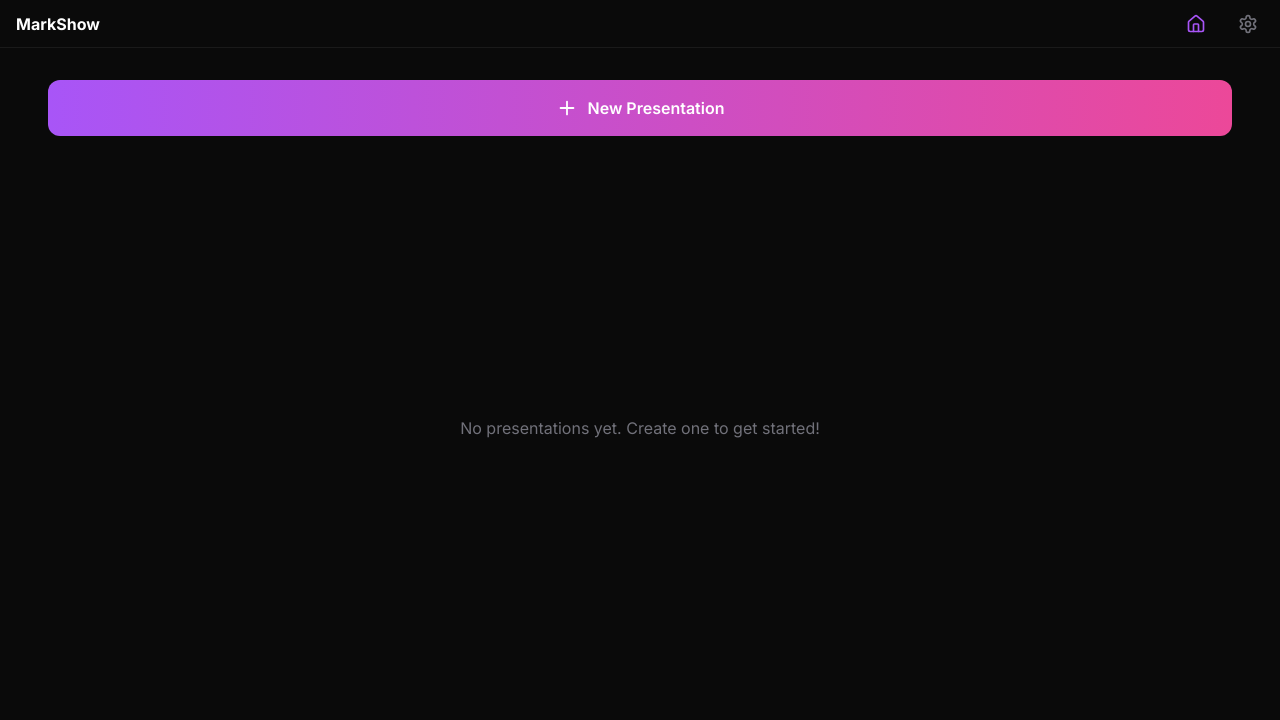
Test case: HomePage › opens create dialog on button click
This screenshot has width=1280, height=720.
Check: the text "No presentations yet. Create one to get started!" is shown, box [460, 416, 820, 440]
Click the button with test id "new-presentation-btn" at (640, 108), box [48, 80, 1232, 136]
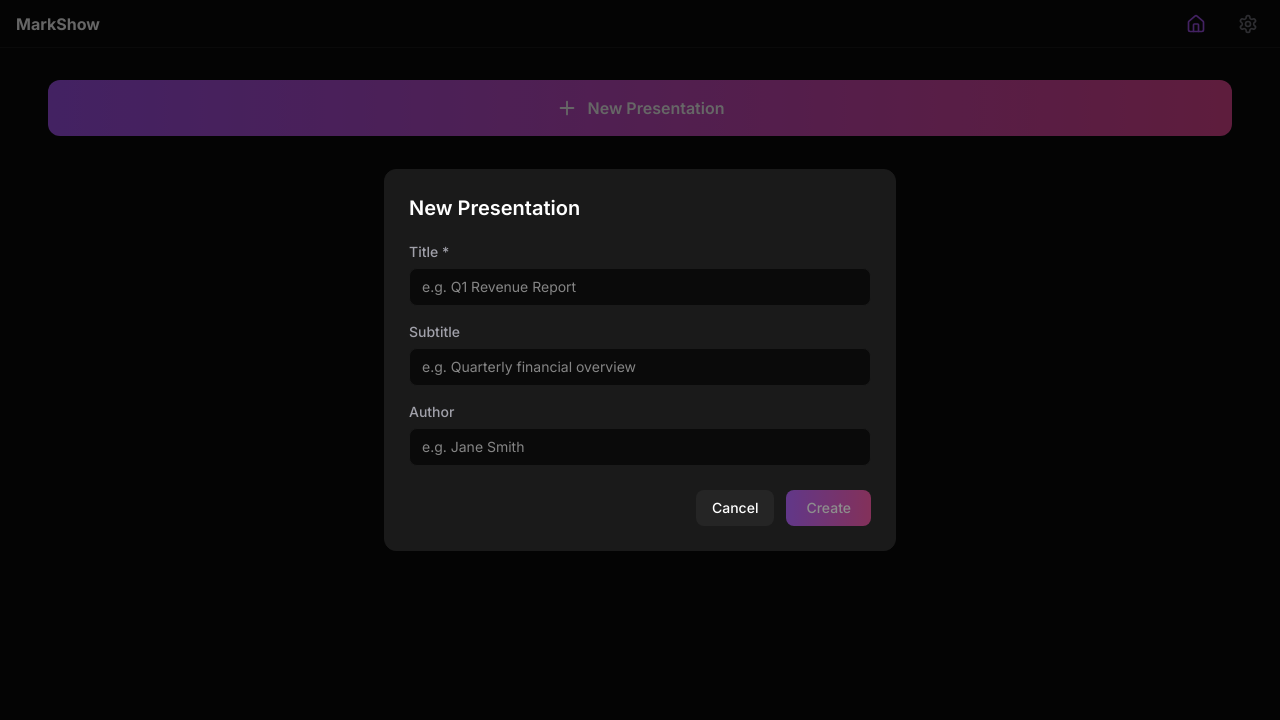
Check: the heading "New Presentation" is shown, box [409, 196, 580, 220]
Check: the field with test id "title-input" is shown, box [409, 268, 871, 306]
